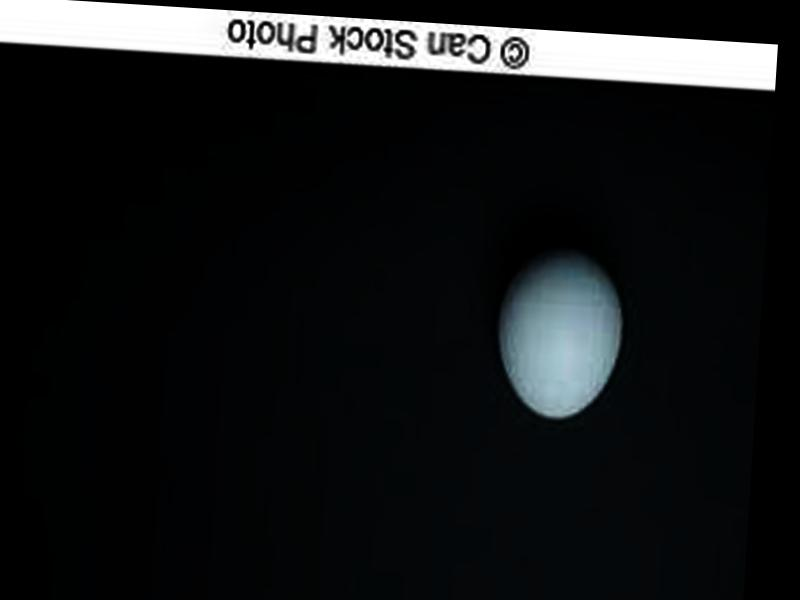Eggs: (493, 244, 630, 424)
